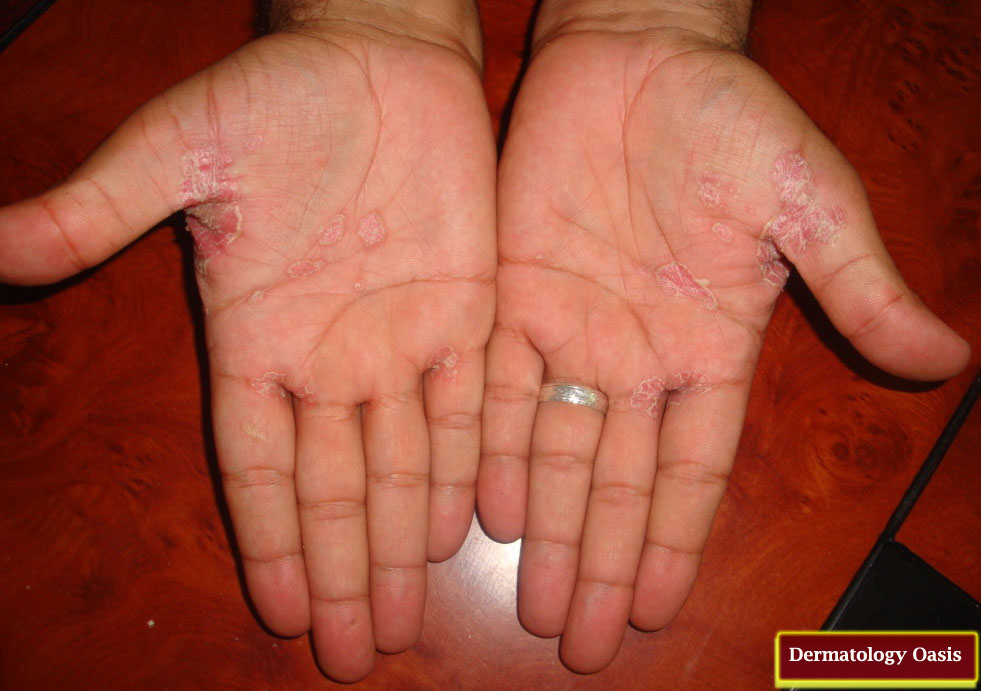Diseased: (172, 114, 848, 506)
